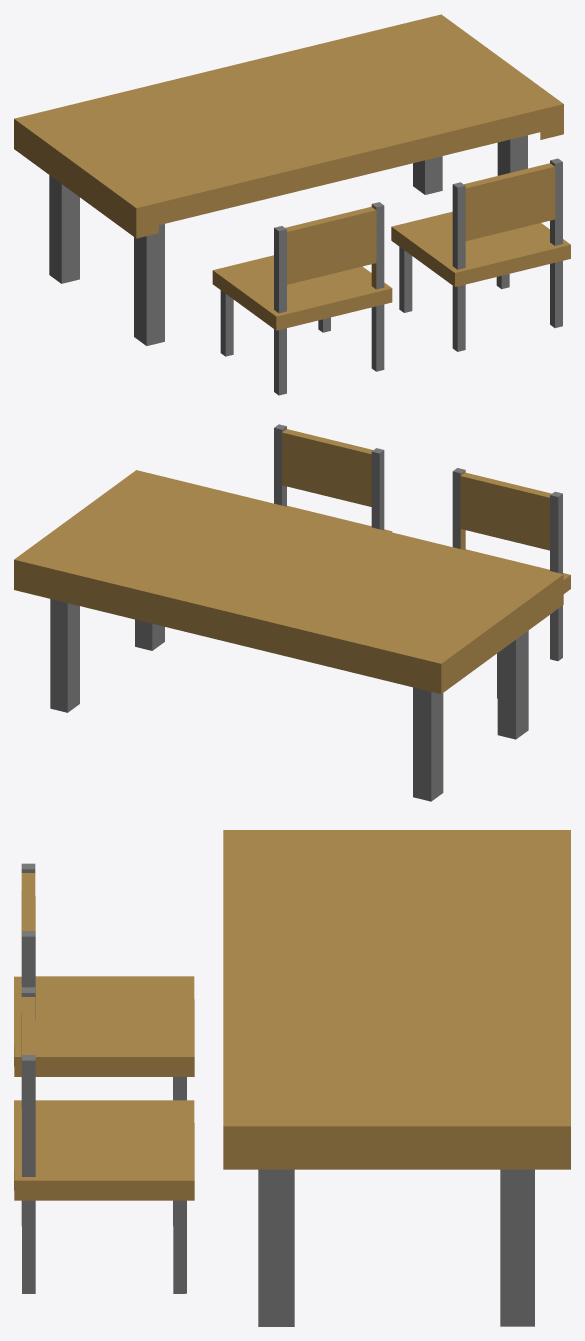
Rendered from student_table_chair.fbx.
3 views of the same model, one above another, from view 1: azimuth 30°, elevation 25°; view 2: azimuth 150°, elevation 25°; view 3: azimuth 270°, elevation 25° (orthographic). The views are drawn at different scales.
Visible parts, largest first — view 1: Plane, Plane.001, Plane.002; view 2: Plane, Plane.001, Plane.002; view 3: Plane, Plane.002, Plane.001.
Boxes of the visible parts, box(x1,y1,x2,y2) form: Plane: box(14, 14, 563, 345); Plane.001: box(212, 202, 392, 395); Plane.002: box(391, 158, 570, 351); Plane: box(14, 470, 563, 801); Plane.001: box(452, 468, 570, 698); Plane.002: box(274, 424, 392, 532); Plane: box(223, 830, 570, 1326); Plane.002: box(14, 987, 194, 1293); Plane.001: box(14, 863, 194, 1100).
Bounding box in the file's own units: 809 × 297 × 642.
